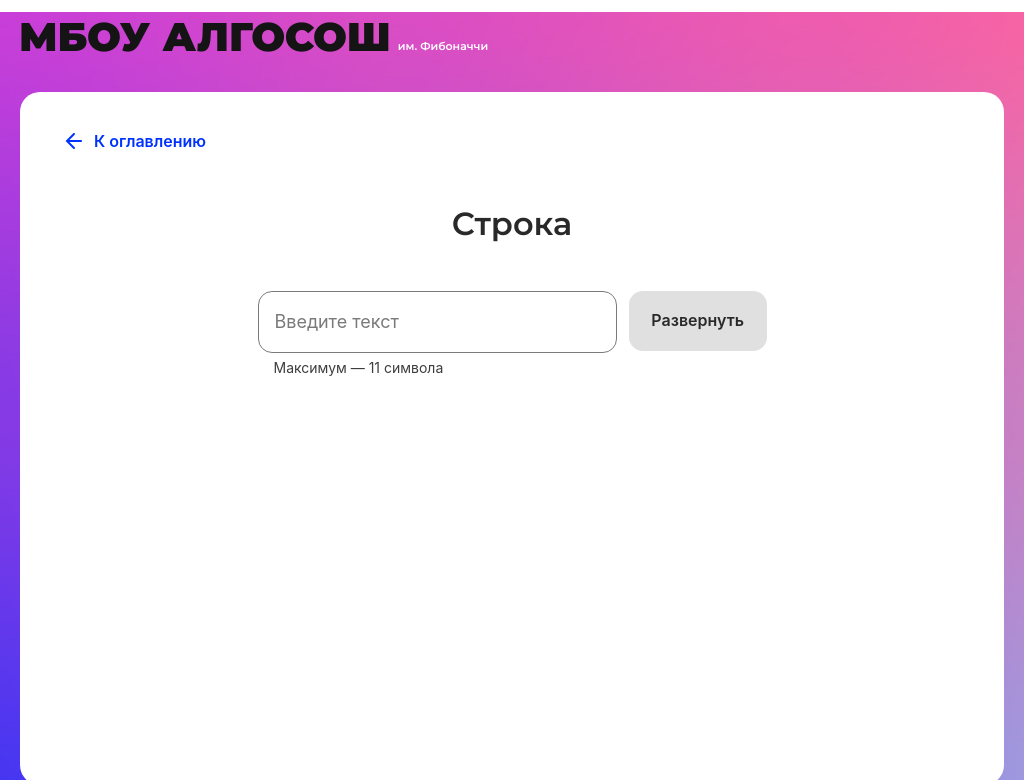
Test: should work submit button and algorithms on the recursion's page › should be disabled button, when removed text
expect the submit button is disabled: met, box 629,291 -> 767,351
Type "abcd" into the field with placeholder "Введите текст".
click(438, 322); type("abcd")  # box 258,291 -> 617,353
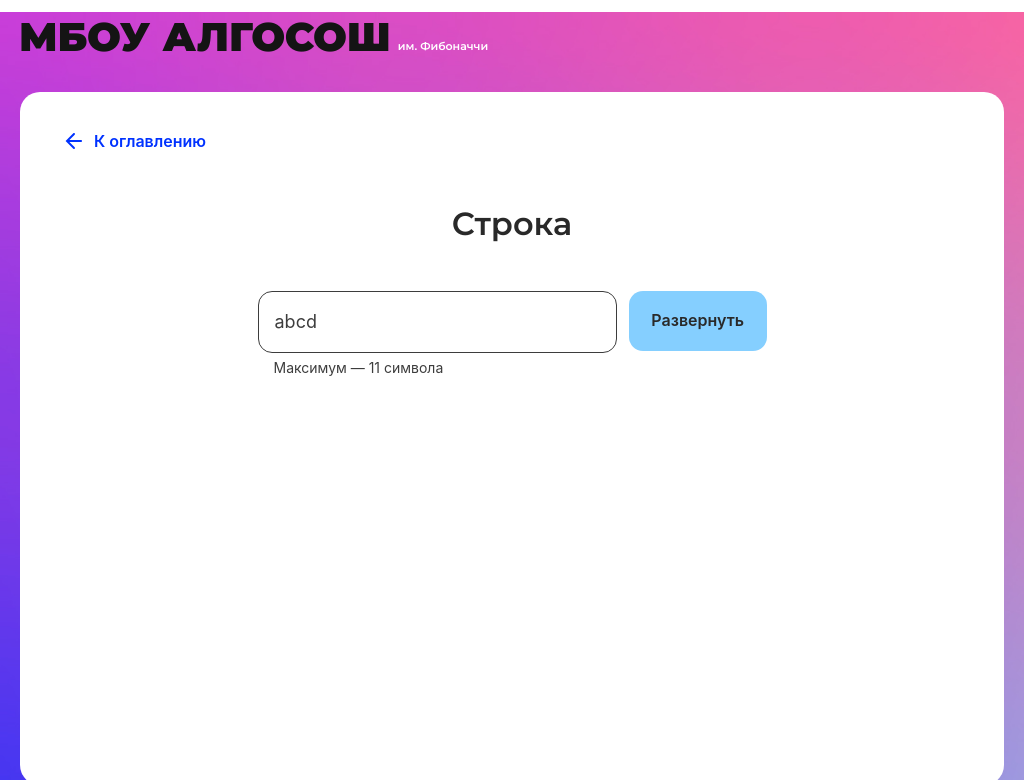
expect the submit button is enabled: met
Clear the field at x=438, y=322, box 258,291 -> 617,353
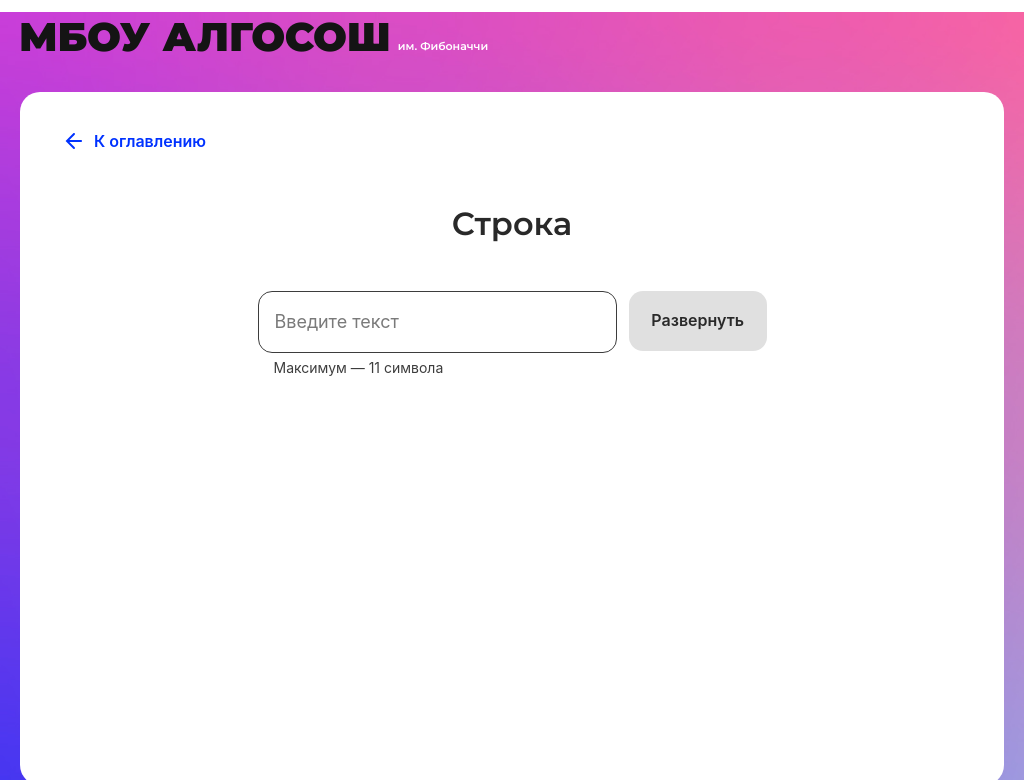
expect the submit button is disabled: met, box 629,291 -> 767,351
